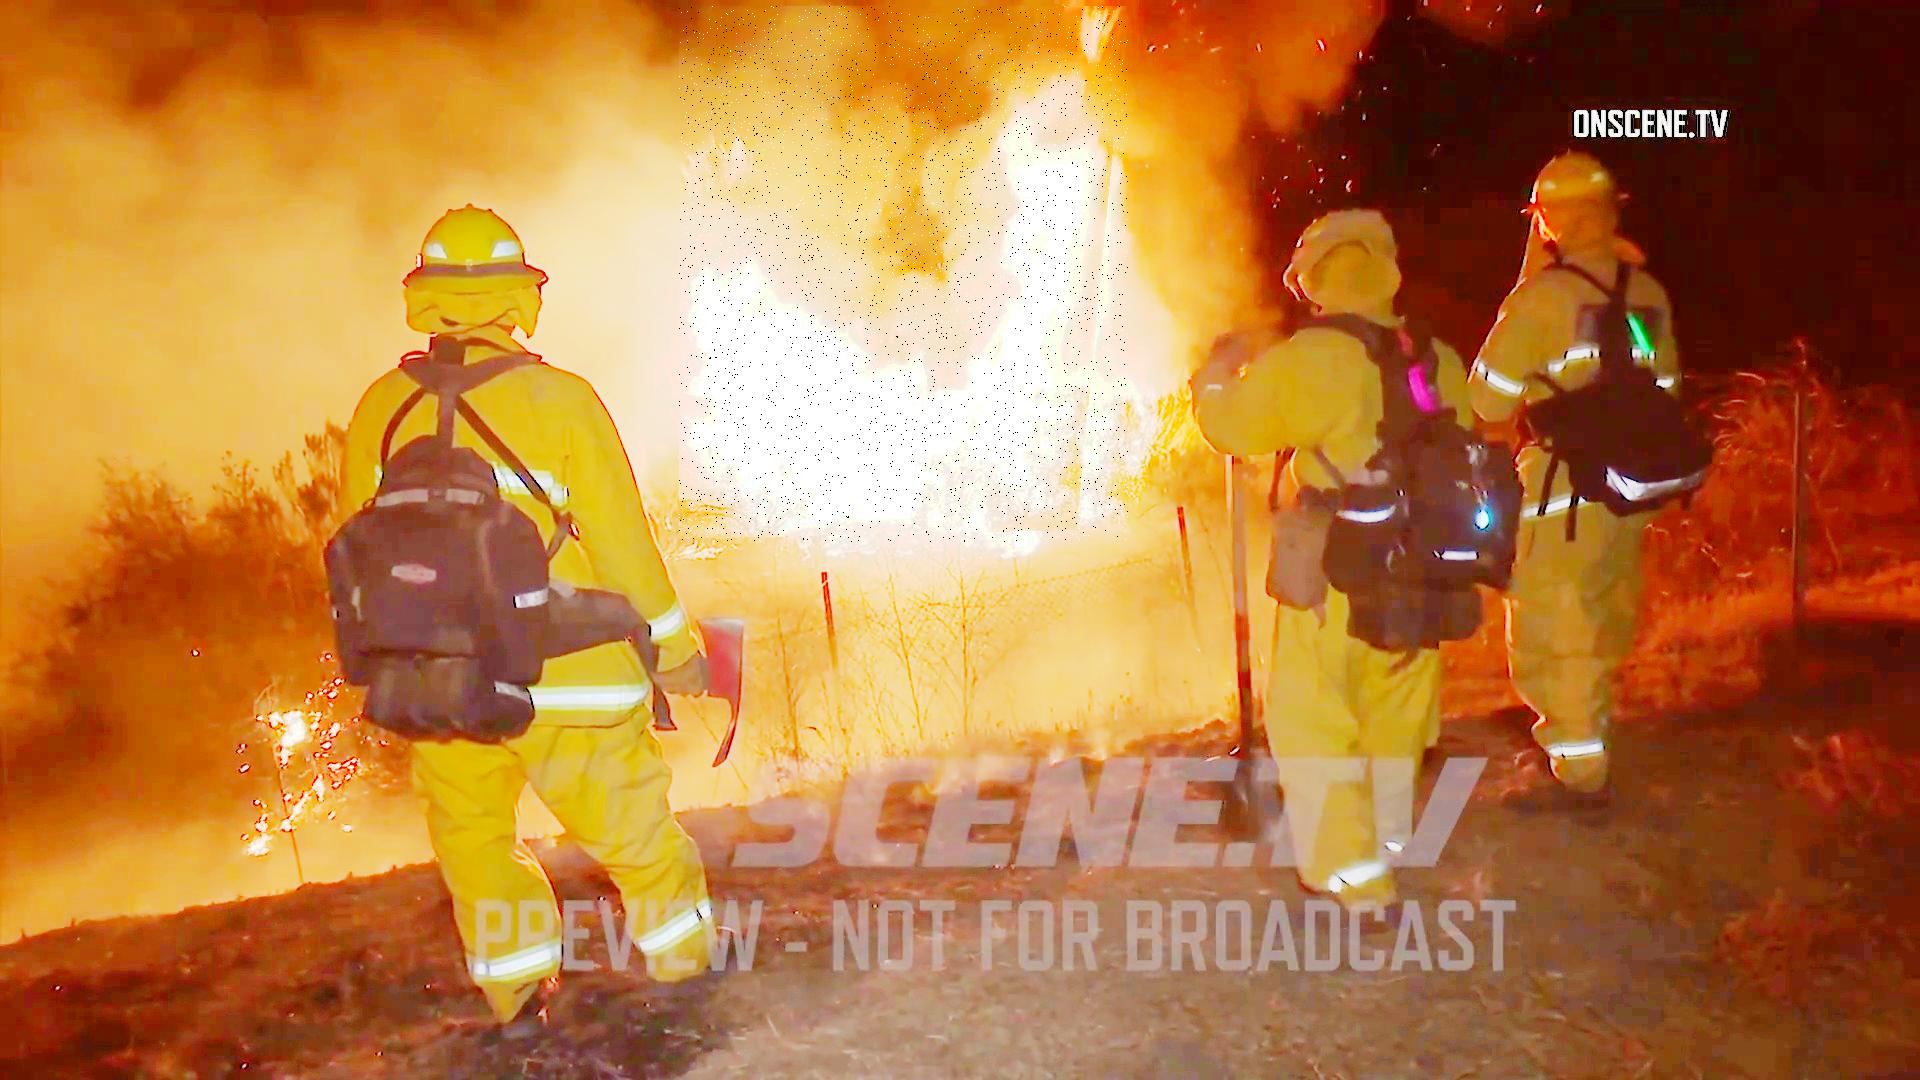fire: (679, 7, 1127, 543)
